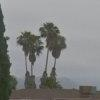Palm tree: (18, 18, 70, 81)
